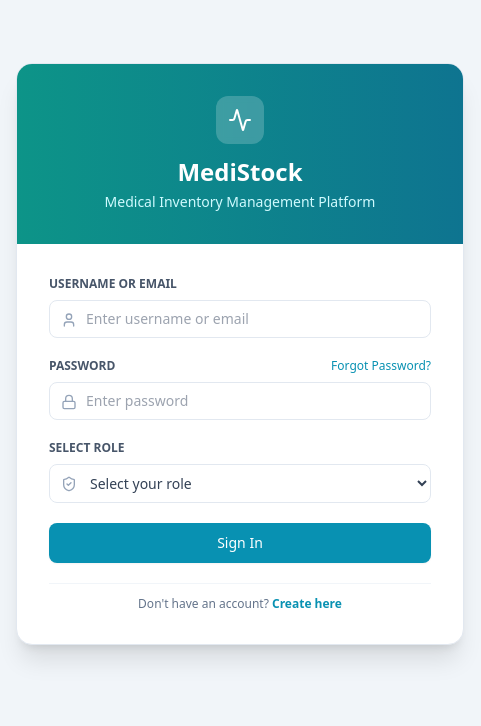
Test: MediStock Frontend Components › Login Page and Role Dropdown › displays helpful connection guidance when a network error occurs
Type "admin" into the field with placeholder "Enter username or email" at (240,319), box [49,300,431,338]
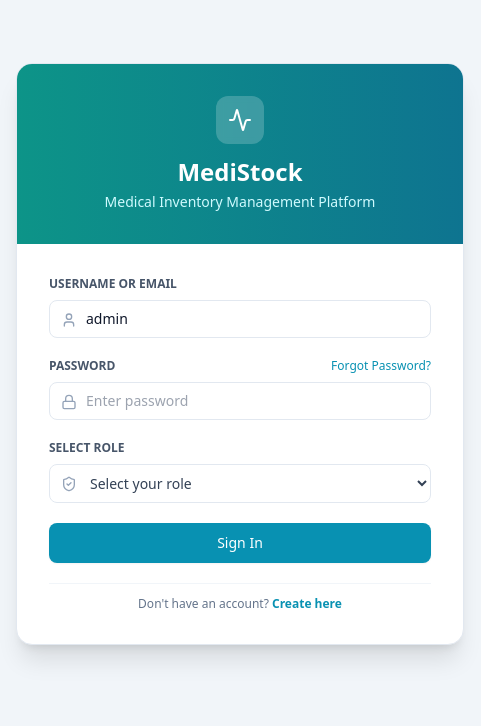
Type "admin123" into the password field with placeholder "Enter password" at (240,401), box [49,382,431,420]
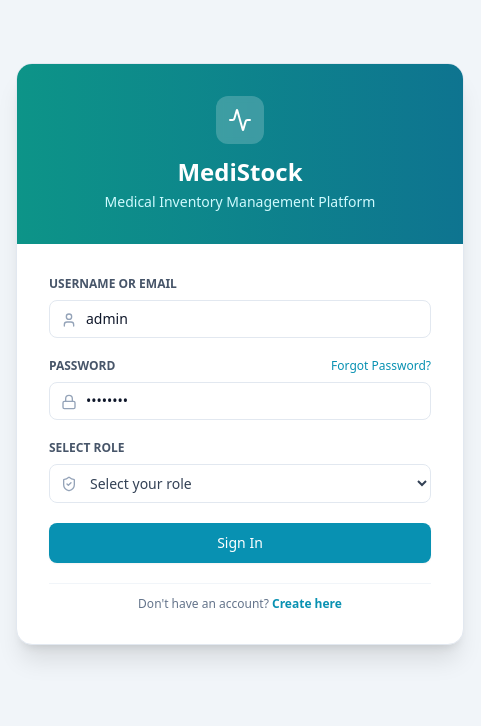
Select "Admin" in the dropdown at (240,484), box [49,464,431,503]
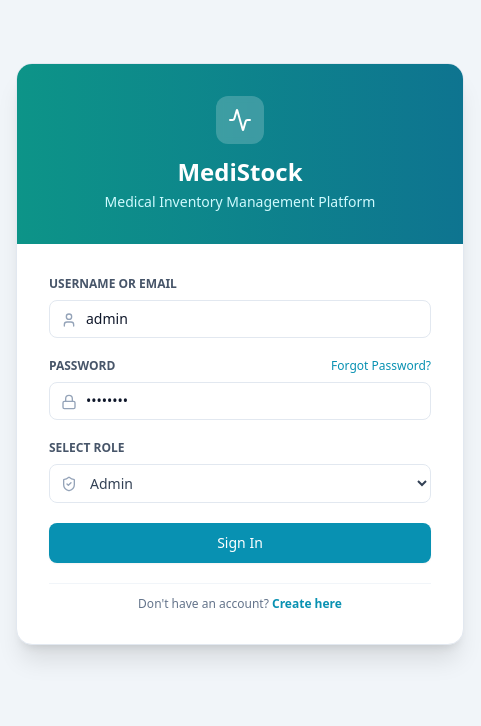
Click the button "Sign In" at (240,543), box [49,523,431,563]
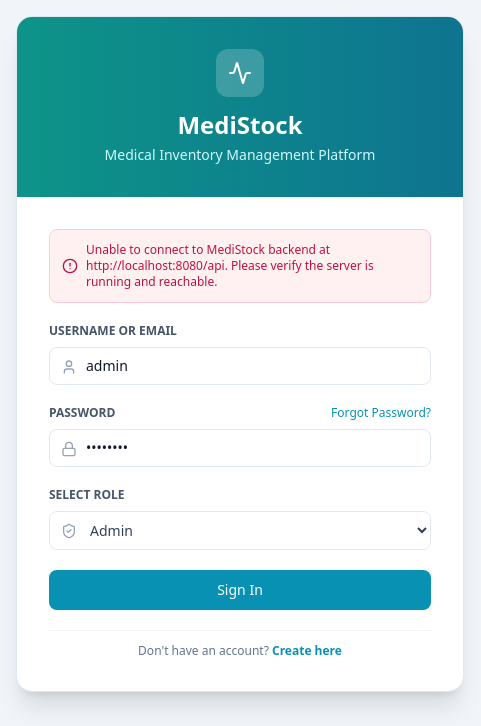
Now the text "Unable to connect" is shown, box [86,241,374,290]
